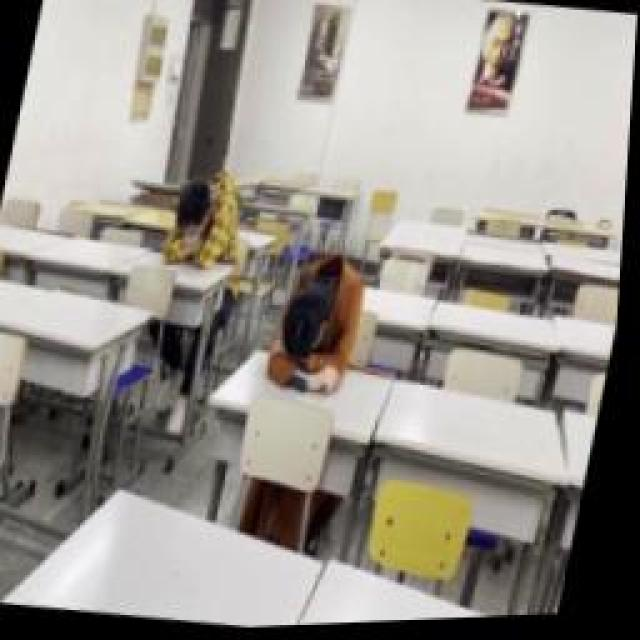sleep: (265, 250, 380, 402), (162, 163, 260, 275)
